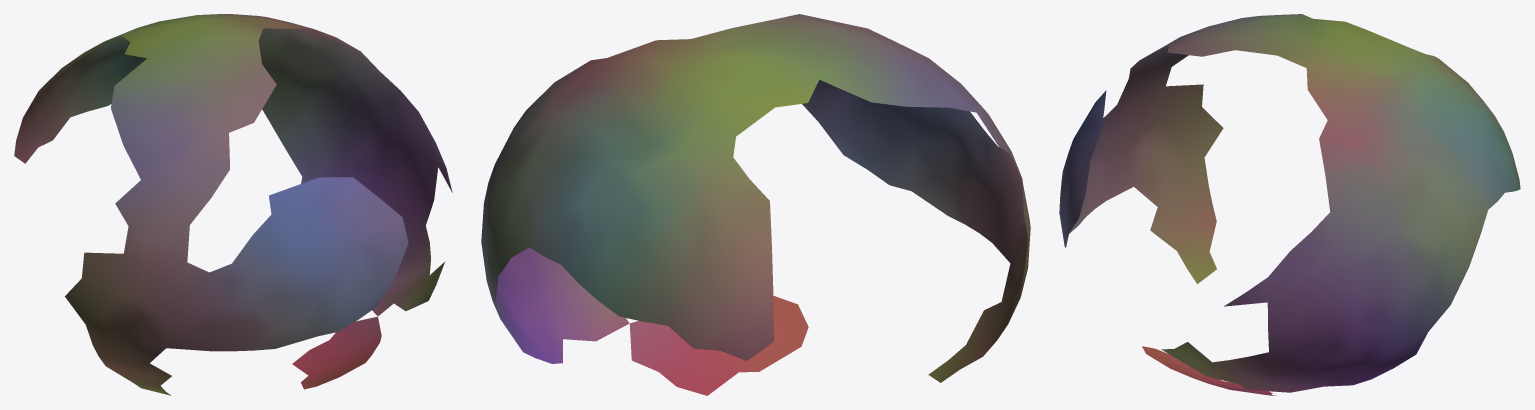
3 views of the same model, side by side, from view 1: azimuth 30°, elevation 25°; view 2: azimuth 150°, elevation 25°; view 3: azimuth 270°, elevation 25° (orthographic). The views are drawn at different scales.
Parts seen in each view (by area): view 1: starcloud142; view 2: starcloud142; view 3: starcloud142.
Boxes of the visible parts, x1,y1,x2,y2 form: starcloud142: (14, 14, 452, 395); starcloud142: (481, 14, 1030, 395); starcloud142: (1059, 14, 1520, 395).
Bounding box in the file's own units: 0.4883 × 0.3849 × 0.5.
